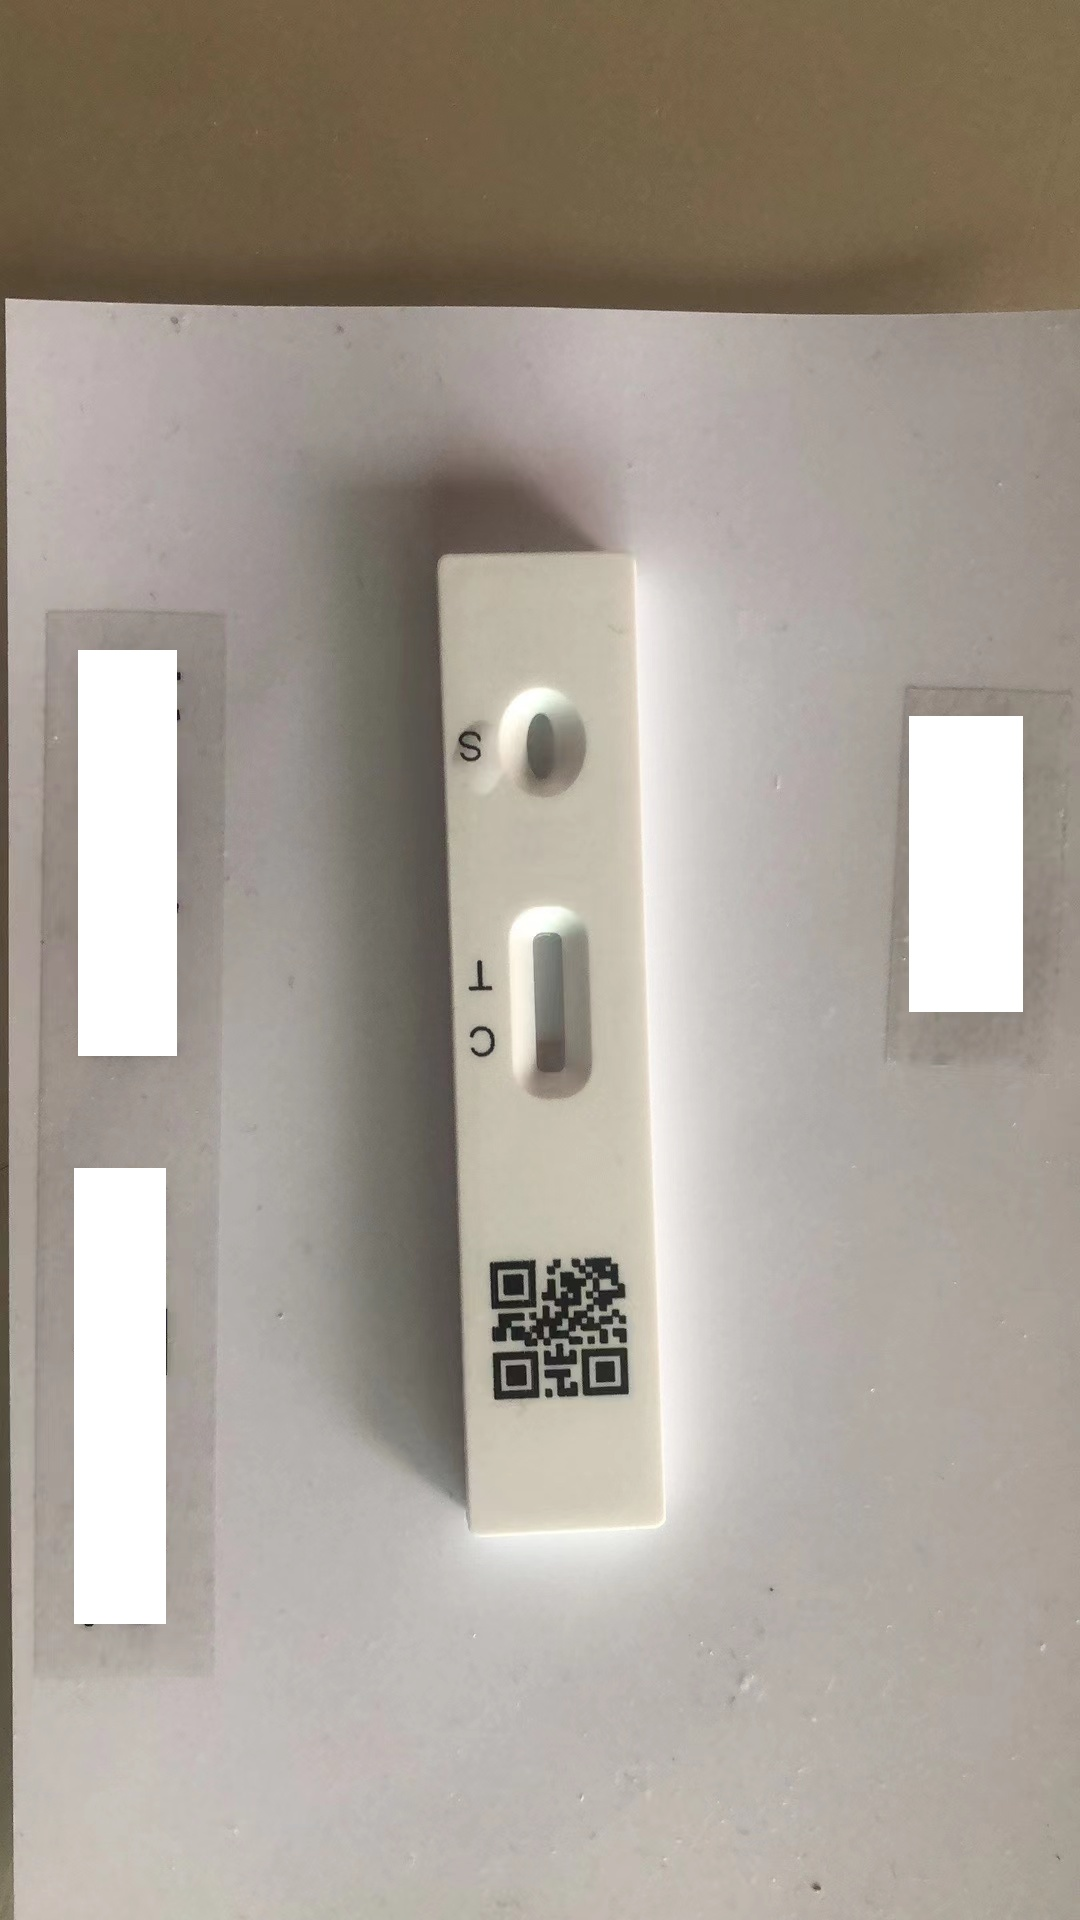negative: (512, 905, 592, 1105)
